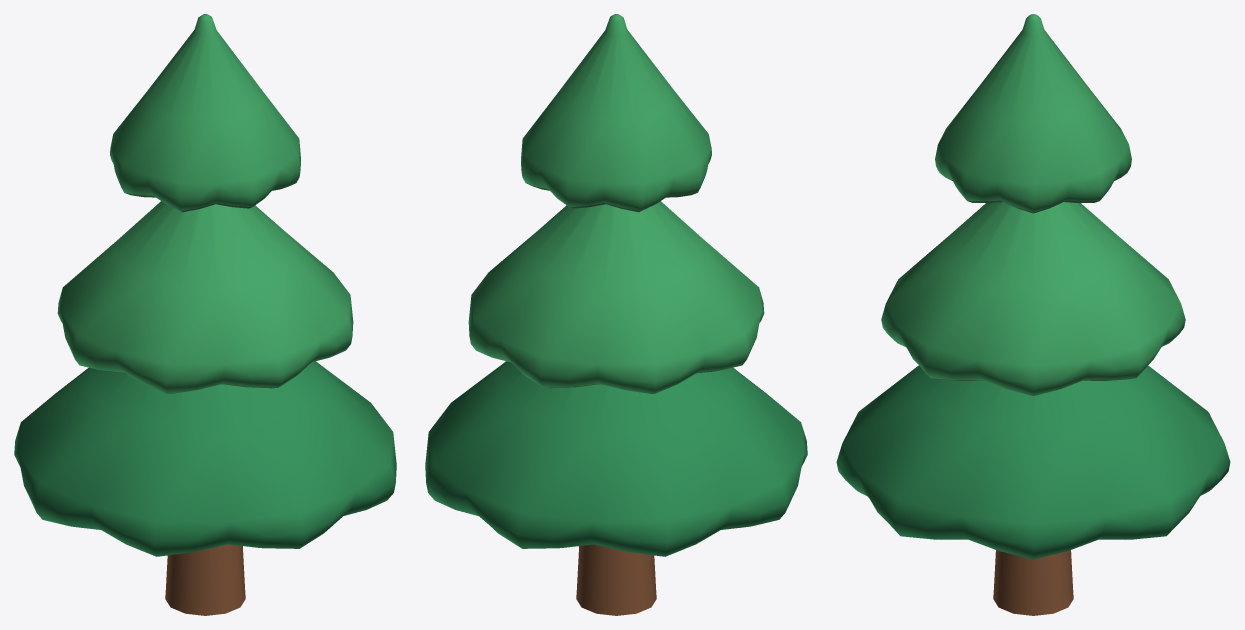
The model's file is pine_tree.glb.
The picture shows the model from 3 angles, left to right: view 1: azimuth 30°, elevation 25°; view 2: azimuth 150°, elevation 25°; view 3: azimuth 270°, elevation 25°; orthographic projection.
Parts seen in each view (by area): view 1: Tier1, Tier2, Tier3, Trunk; view 2: Tier1, Tier2, Tier3, Trunk; view 3: Tier1, Tier2, Tier3, Trunk.
Part boxes in pixels (left/top/right/bottom): Tier1: left=14, top=361, right=396, bottom=556; Tier2: left=57, top=201, right=353, bottom=393; Tier3: left=110, top=14, right=300, bottom=212; Trunk: left=165, top=544, right=245, bottom=615; Tier1: left=425, top=361, right=807, bottom=556; Tier2: left=468, top=201, right=764, bottom=393; Tier3: left=521, top=14, right=711, bottom=212; Trunk: left=576, top=544, right=656, bottom=615; Tier1: left=836, top=365, right=1230, bottom=559; Tier2: left=881, top=202, right=1185, bottom=395; Tier3: left=935, top=14, right=1131, bottom=213; Trunk: left=993, top=550, right=1073, bottom=615.
Size of the model in its own units: 2.2 by 3.6 by 2.2.
